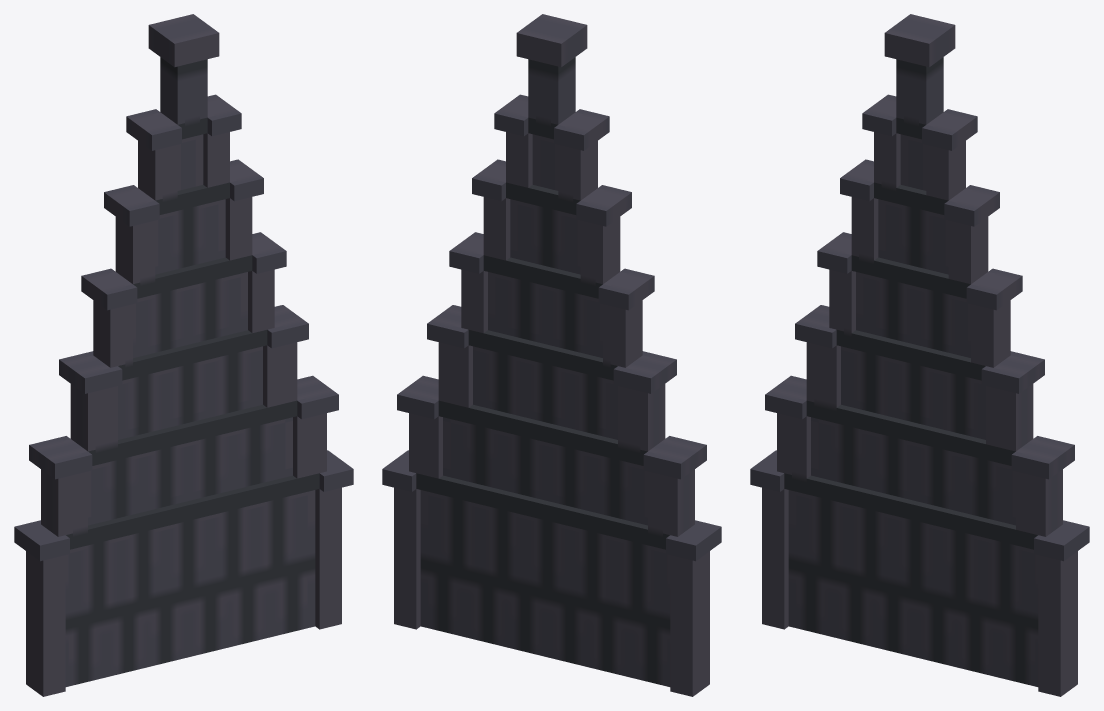
File: Roof_Panel-6.fbx
3 views of the same model, side by side, from view 1: azimuth 30°, elevation 25°; view 2: azimuth 150°, elevation 25°; view 3: azimuth 330°, elevation 25° (orthographic).
Parts seen in each view (by area): view 1: Roof_Panel-6; view 2: Roof_Panel-6; view 3: Roof_Panel-6.
Boxes of the visible parts, left/top/right/bottom form: Roof_Panel-6: left=14, top=14, right=353, bottom=696; Roof_Panel-6: left=382, top=14, right=721, bottom=696; Roof_Panel-6: left=750, top=14, right=1089, bottom=696.
Size of the model in its own units: 210 by 400 by 30.
